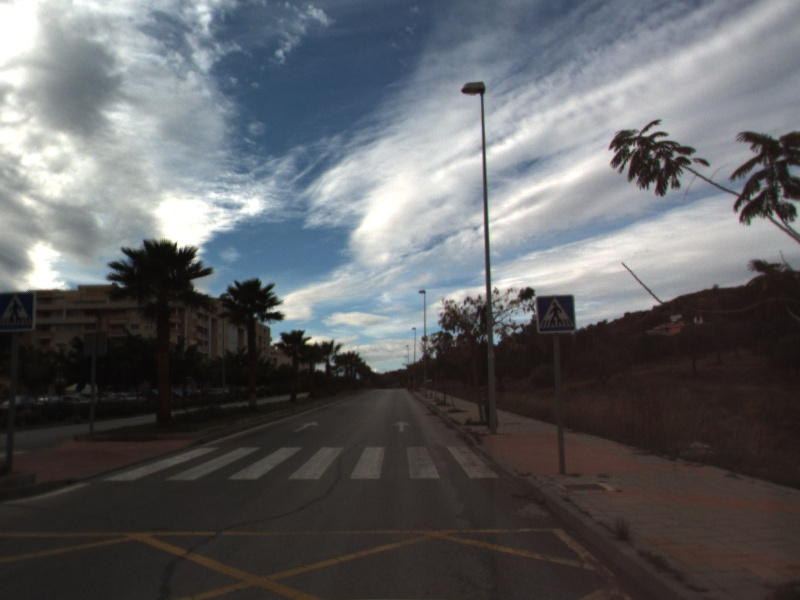STRAIGHT: (292, 418, 320, 434), (391, 418, 413, 433)
